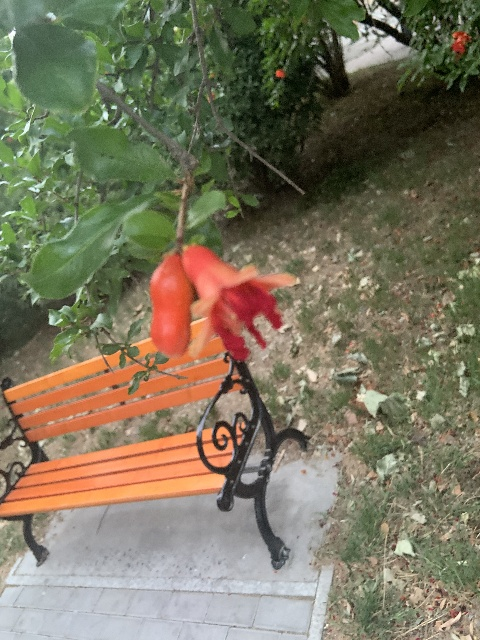bud: (148, 254, 194, 357)
flower: (183, 245, 296, 360), (452, 31, 470, 53)
